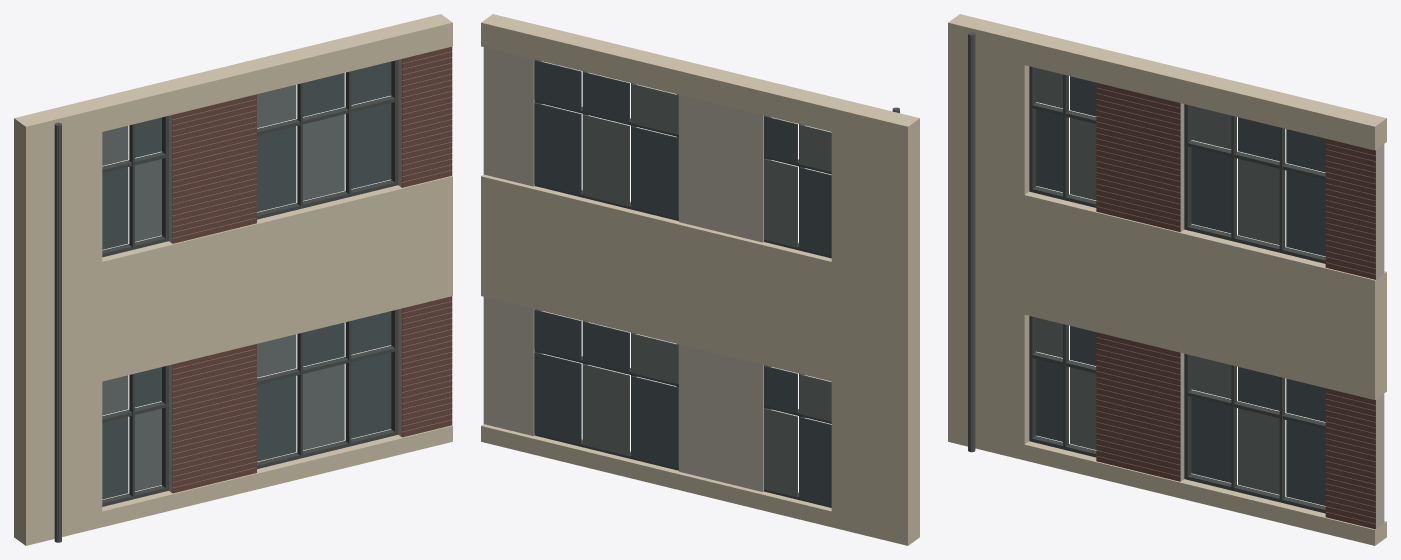
File: xuhui-cavendish-court-street-window-bands-lod.glb
3 renders of one model, left to right at view 1: azimuth 30°, elevation 25°; view 2: azimuth 150°, elevation 25°; view 3: azimuth 330°, elevation 25°, orthographic.
Parts seen in each view (by area): view 1: 凯文公寓北楼沿街红砖带与钢窗; view 2: 凯文公寓北楼沿街红砖带与钢窗; view 3: 凯文公寓北楼沿街红砖带与钢窗.
Boxes of the visible parts, x1=… form: 凯文公寓北楼沿街红砖带与钢窗: x1=14, y1=14, x2=452, y2=545; 凯文公寓北楼沿街红砖带与钢窗: x1=481, y1=14, x2=919, y2=545; 凯文公寓北楼沿街红砖带与钢窗: x1=948, y1=14, x2=1386, y2=545.
Size of the model in its own units: 5.64 by 5.29 by 0.4129.
